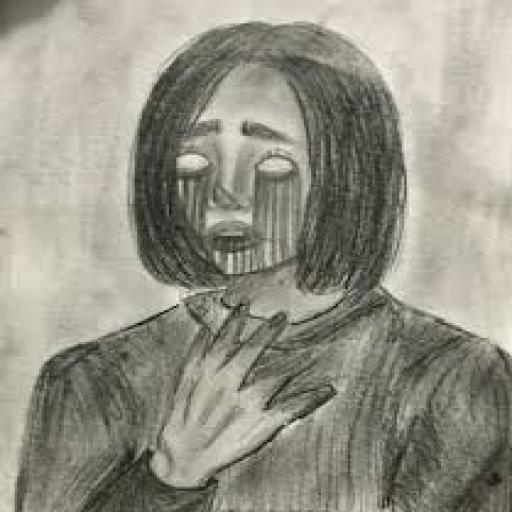person: (24, 18, 510, 505)
